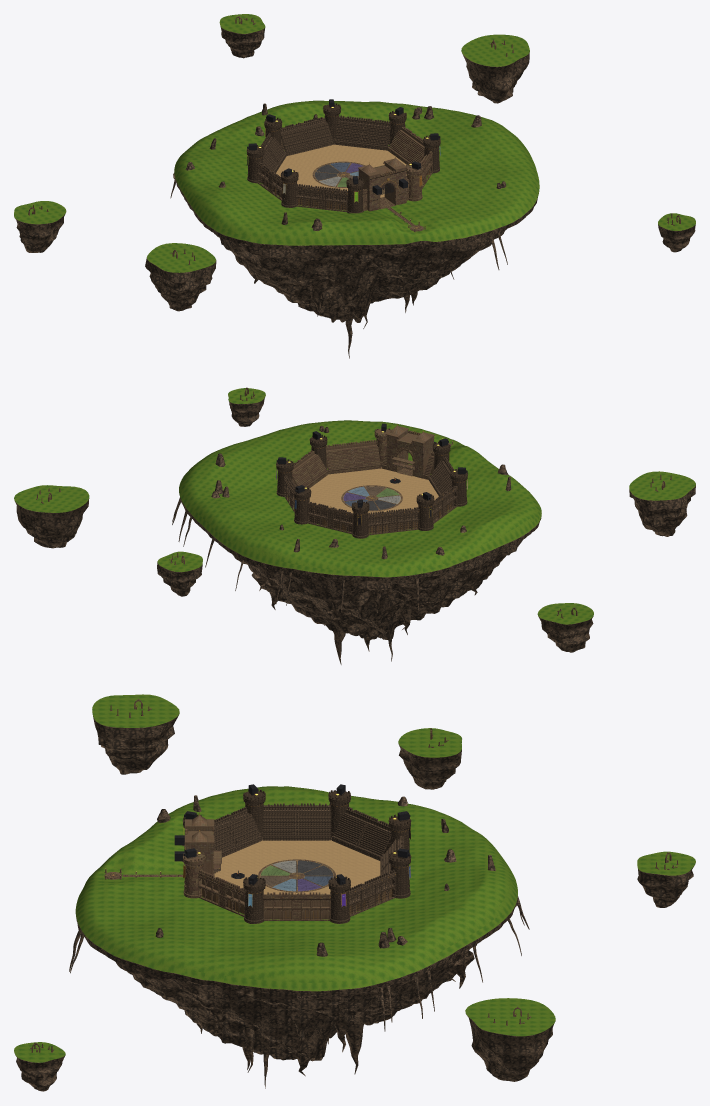
The model's file is IsolaDraghi.fbx.
3 renders of one model, top to bottom at view 1: azimuth 30°, elevation 25°; view 2: azimuth 150°, elevation 25°; view 3: azimuth 270°, elevation 25°, orthographic. The views are drawn at different scales.
Parts seen in each view (by area): view 1: Isola_Prato, Isola_Roccia_03, Isola_Roccia_04, Arena_Pavimento, Isoletta_1, Isoletta_4, Isoletta_4_Prato, Arena_Portale, Isoletta_1_Prato, Arena_Mura_04_Interno, Arena_Mura_05_Interno, Isola_Roccia_Speroni (+10 smaller); view 2: Isola_Prato, Isola_Roccia_02, Arena_Pavimento, Isola_Roccia_01, Isoletta_4, Isola_Roccia_Speroni, Arena_Portale, Isoletta_4_Prato, Isoletta_1, Isoletta_1_Prato, Arena_Mura_02_Interno, Isoletta_2 (+19 smaller); view 3: Isola_Prato, Isola_Roccia_04, Isola_Roccia_01, Arena_Pavimento, Isola_Roccia_Speroni, Isoletta_4, Isoletta_1, Isoletta_4_Prato, Isoletta_1_Prato, Arena_Mura_07_Interno, Arena_Pavimento_Spicchi, Arena_Mura_06_Interno (+19 smaller).
Boxes of the visible parts, x1,y1,x2,y2 form: Isola_Prato: (174,100,539,245); Isola_Roccia_03: (198,217,427,322); Isola_Roccia_04: (353,193,538,318); Arena_Pavimento: (276,144,406,197); Isoletta_1: (145,258,216,311); Isoletta_4: (462,51,529,103); Isoletta_4_Prato: (461,34,529,66); Arena_Portale: (358,158,407,211); Isoletta_1_Prato: (147,243,215,272); Arena_Mura_04_Interno: (334,122,390,150); Arena_Mura_05_Interno: (280,122,334,155); Isola_Roccia_Speroni: (170,180,507,358); Isola_Prato: (179,420,541,577); Isola_Roccia_02: (285,540,515,639); Arena_Pavimento: (309,468,438,513); Isola_Roccia_01: (179,492,341,631); Isoletta_4: (15,498,89,548); Isola_Roccia_Speroni: (172,497,482,664); Arena_Portale: (386,425,434,478); Isoletta_4_Prato: (14,485,89,512); Isoletta_1: (629,485,695,536); Isoletta_1_Prato: (629,471,695,500); Arena_Mura_02_Interno: (326,446,380,474); Isoletta_2: (538,616,593,652); Isola_Prato: (75,786,517,991); Isola_Roccia_04: (76,916,296,1060); Isola_Roccia_01: (297,898,517,1061); Arena_Pavimento: (214,840,380,894); Isola_Roccia_Speroni: (69,896,529,1088); Isoletta_4: (466,1014,555,1081); Isoletta_1: (93,714,179,774); Isoletta_4_Prato: (465,998,555,1036); Isoletta_1_Prato: (92,694,179,727); Arena_Mura_07_Interno: (262,812,331,840); Arena_Pavimento_Spicchi: (260,860,333,891); Arena_Mura_06_Interno: (331,814,390,860).
Bounding box in the file's own units: 70826 × 27006 × 61227.
